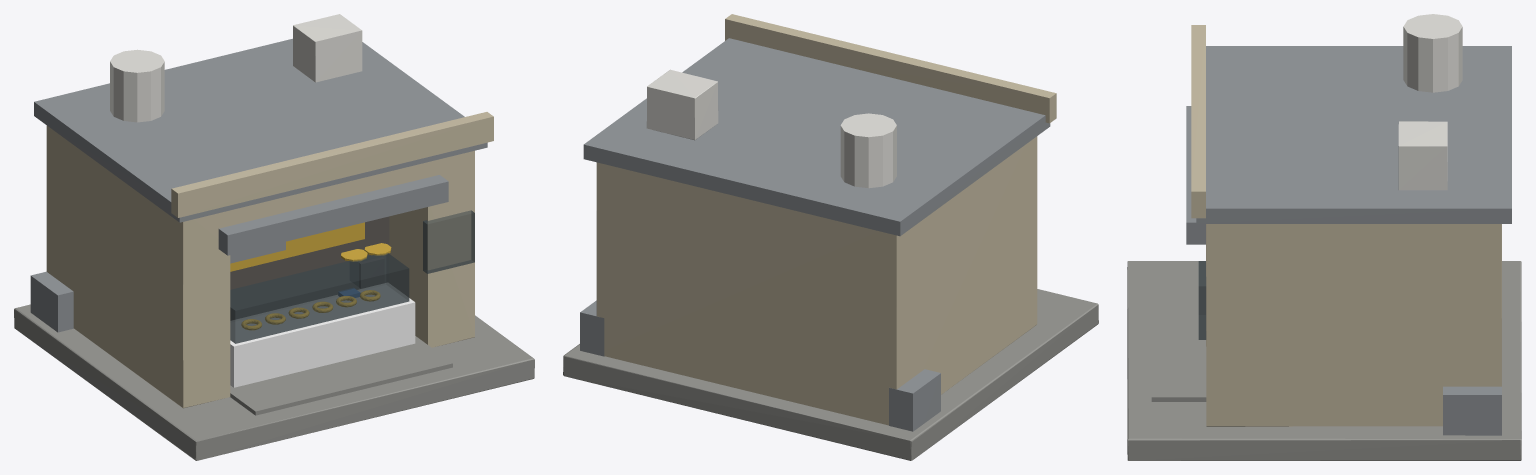
The model's file is kuyumcu.glb.
The picture shows the model from 3 angles, left to right: view 1: azimuth 30°, elevation 25°; view 2: azimuth 150°, elevation 25°; view 3: azimuth 270°, elevation 25°; orthographic projection. The views are drawn at different scales.
Visible parts, largest first — view 1: P; view 2: P; view 3: P.
Part boxes in pixels (x1,y1,x2,y2): P: (14,14,534,460); P: (563,14,1098,460); P: (1127,14,1521,460).
Bounding box in the file's own units: 1 × 0.78 × 0.9301.
